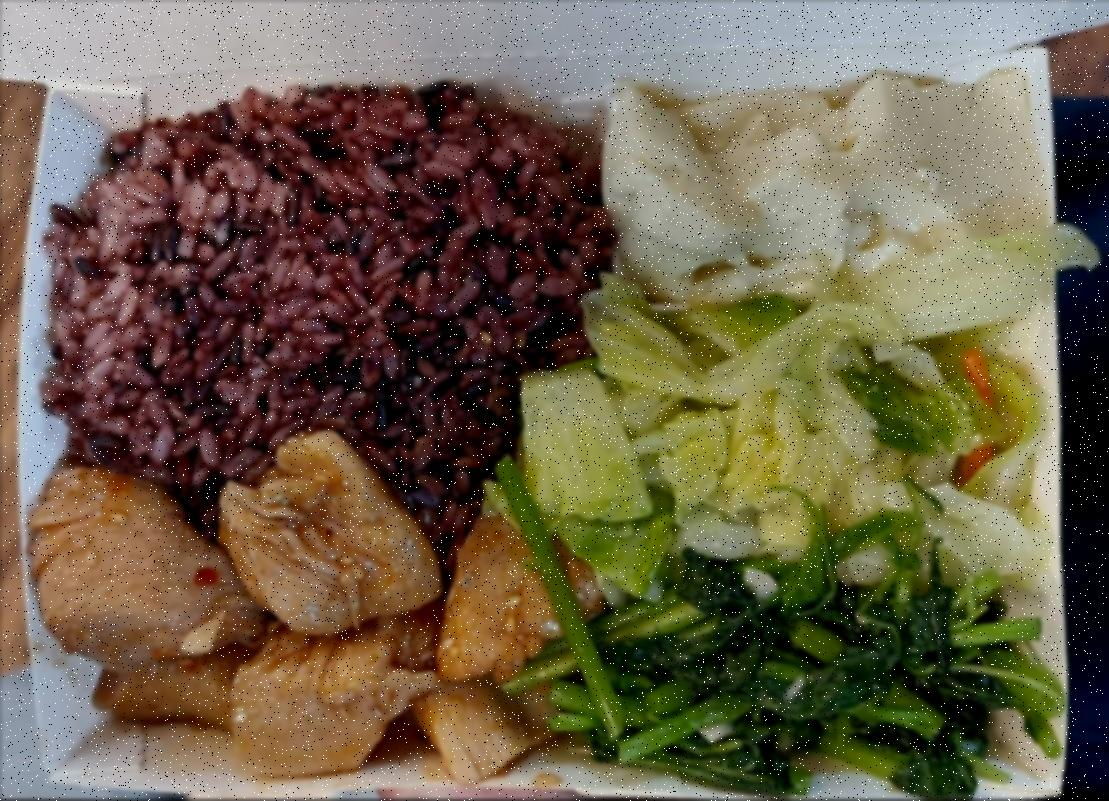big grilled chicken leg: (12, 42, 1081, 801)
braised fish: (34, 75, 614, 548)
braised fish fillet: (528, 282, 1043, 572), (532, 546, 1062, 799), (592, 64, 1052, 296)
braised pork: (29, 432, 578, 773)
